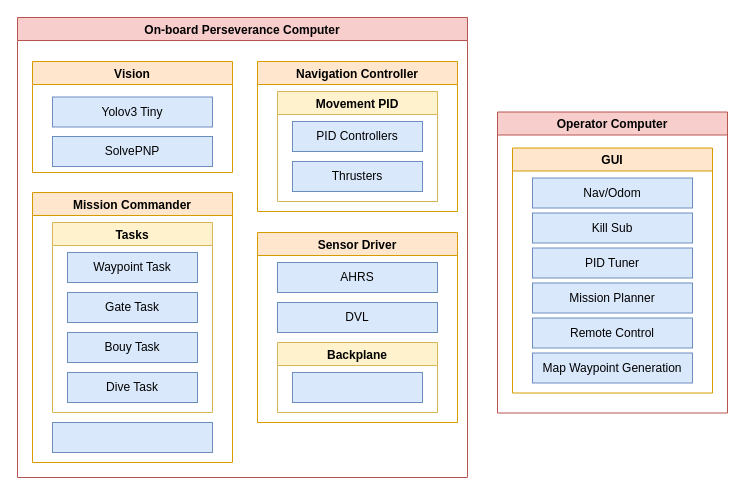
This 745x495 diagram has some shape labels left out. Here are the shapes that lost their labels. From the top down, the centre of each, then its label:
At point 357,387: "Pressure Depth Transducers".
At point 132,437: "Drive Functions".
